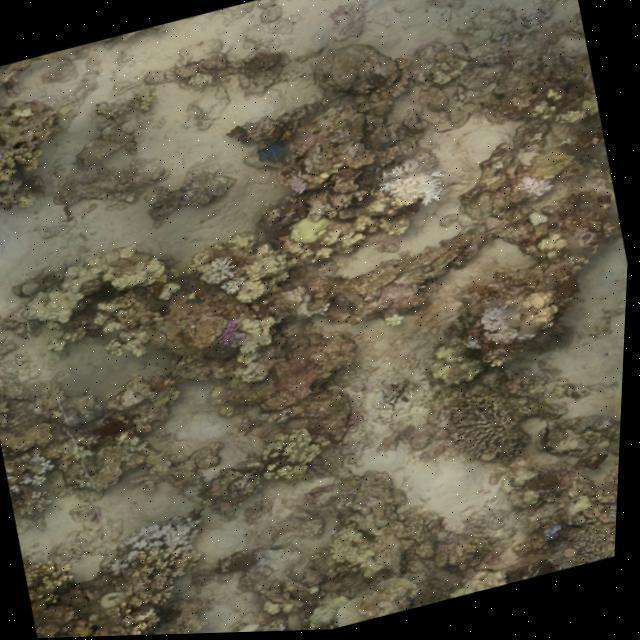Bleached Coral: (359, 144, 462, 222), (114, 505, 223, 571), (462, 289, 540, 362), (12, 440, 74, 506), (192, 248, 258, 304), (512, 163, 574, 209)
